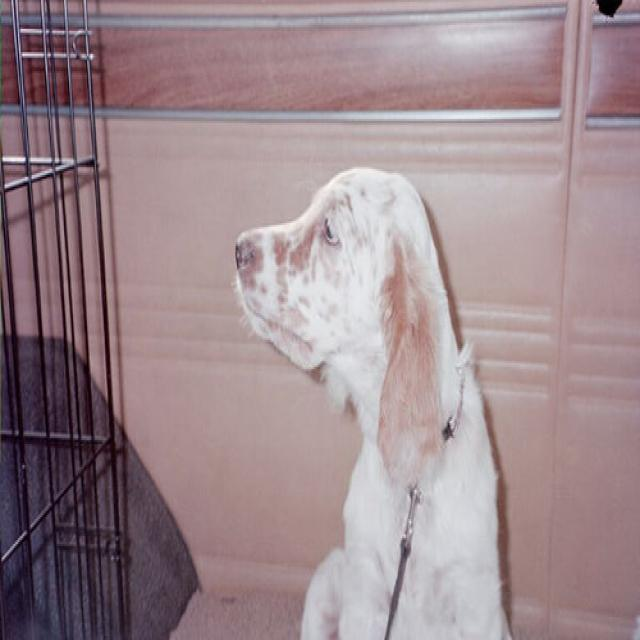dog: (233, 166, 445, 484)
